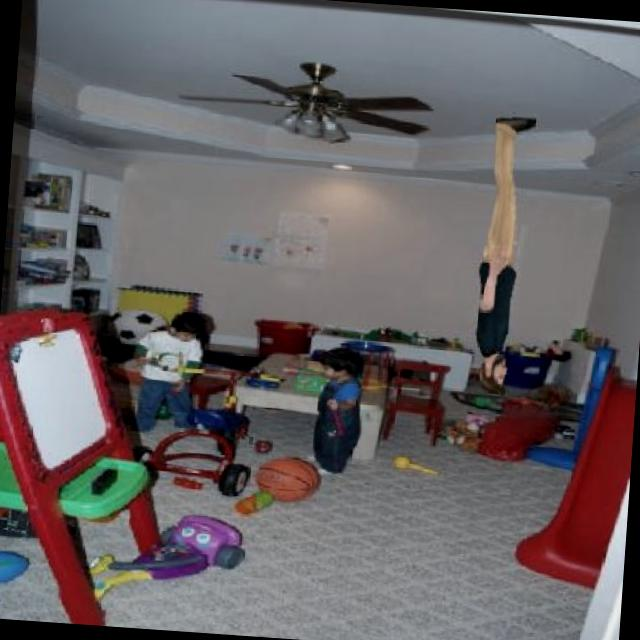Person: (466, 110, 538, 398)
